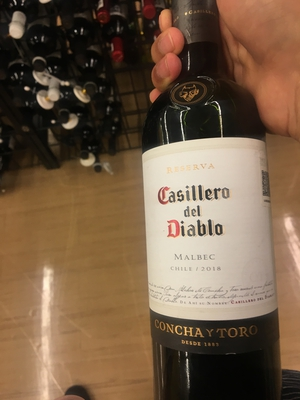casillero del diablo malbec: (130, 23, 296, 400)
